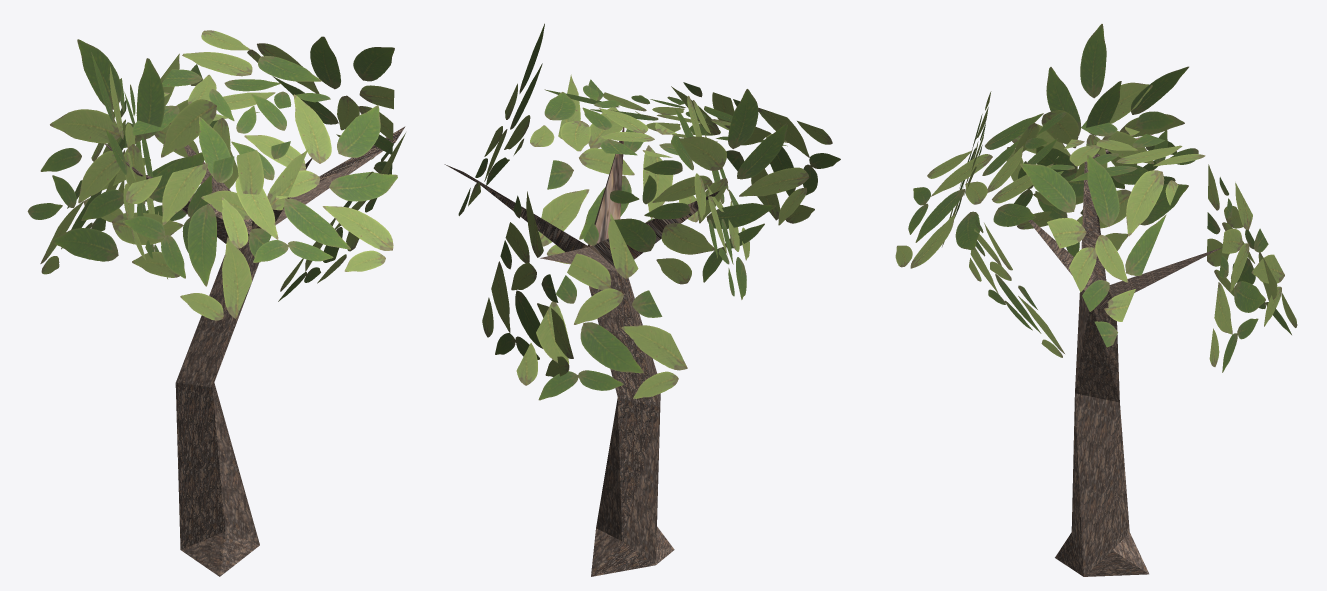
Rendered from Tree_01_LOD1.fbx.
3 renders of one model, left to right at view 1: azimuth 30°, elevation 25°; view 2: azimuth 150°, elevation 25°; view 3: azimuth 270°, elevation 25°, orthographic. The views are drawn at different scales.
Parts seen in each view (by area): view 1: leaf.001, tree.001; view 2: leaf.001, tree.001; view 3: leaf.001, tree.001.
Part boxes in pixels (left/top/right/bottom): leaf.001: left=27, top=30, right=405, bottom=320; tree.001: left=104, top=126, right=405, bottom=576; leaf.001: left=458, top=23, right=840, bottom=400; tree.001: left=444, top=127, right=719, bottom=576; leaf.001: left=895, top=24, right=1297, bottom=372; tree.001: left=1028, top=134, right=1222, bottom=576.
Bounding box in the file's own units: 7.9 × 11.02 × 8.68.
